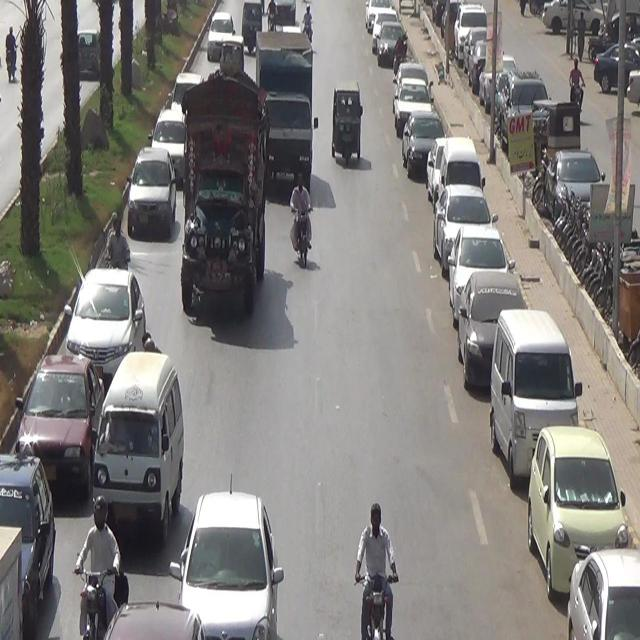car: (93, 347, 186, 544), (165, 492, 285, 640), (17, 347, 100, 491), (67, 255, 148, 394), (123, 144, 180, 239), (151, 94, 192, 177), (207, 14, 240, 71)
motorbike: (341, 477, 407, 640), (81, 496, 128, 640), (287, 173, 321, 283)
truck: (175, 78, 265, 324), (248, 18, 322, 186)
